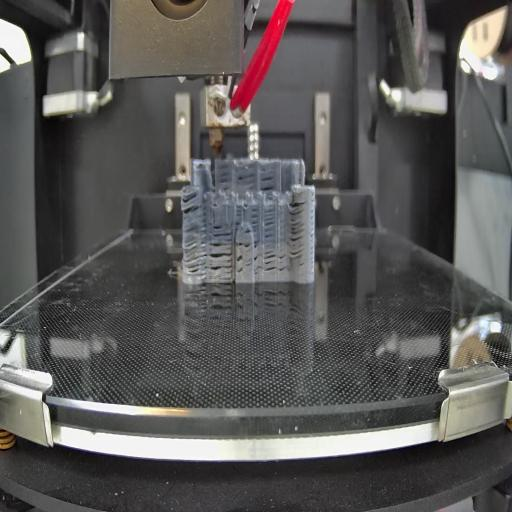cracks: (182, 225, 207, 279), (209, 239, 233, 281), (289, 198, 305, 260), (181, 190, 203, 216), (264, 205, 278, 243), (238, 169, 257, 189), (260, 172, 276, 194), (253, 238, 262, 276), (263, 250, 277, 274), (213, 222, 232, 238), (219, 172, 232, 190), (234, 204, 243, 227), (236, 254, 245, 274), (250, 208, 260, 225), (236, 238, 251, 249), (279, 252, 286, 272), (242, 225, 253, 236)
